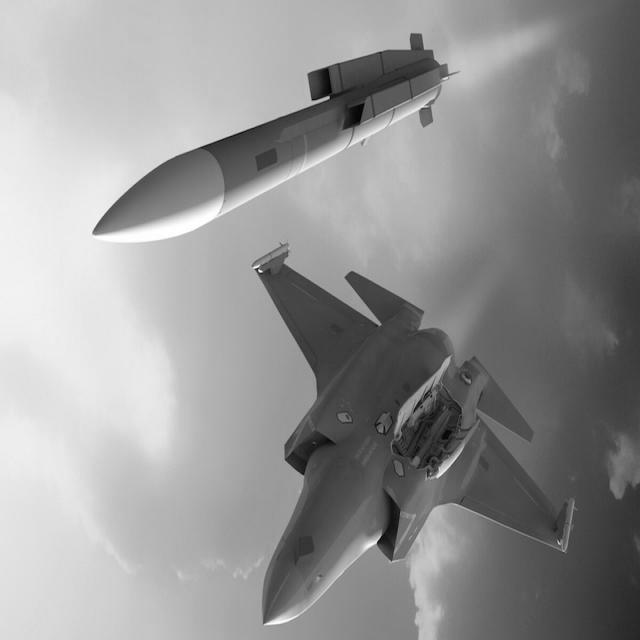missile: (81, 19, 455, 258)
